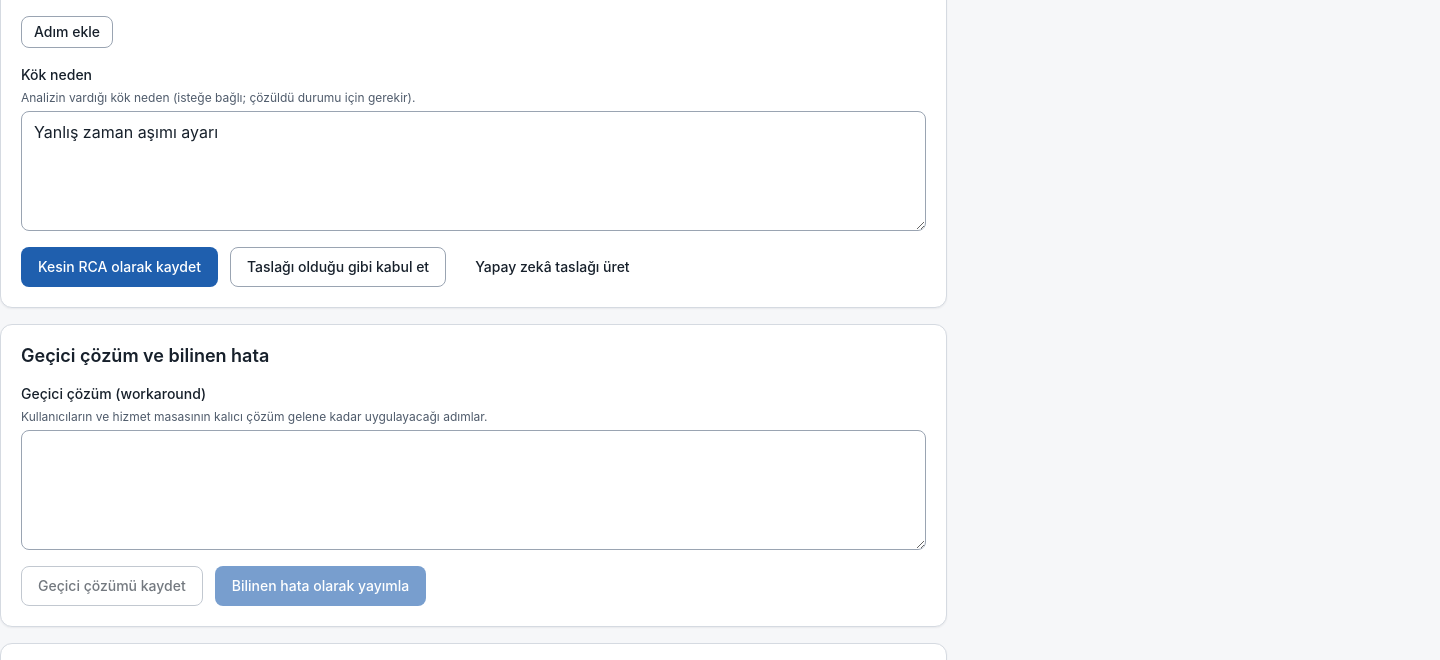
Test: ProblemDetailPage (/problemler/:id) › taslağı kabul et ve yapay zekâ taslağı (onaya düştü → eylem bağlantısı)
(page scrolled)
Click the button "Yapay zekâ taslağı üret": [552, 267] box [458,247,647,287]
(page scrolled)
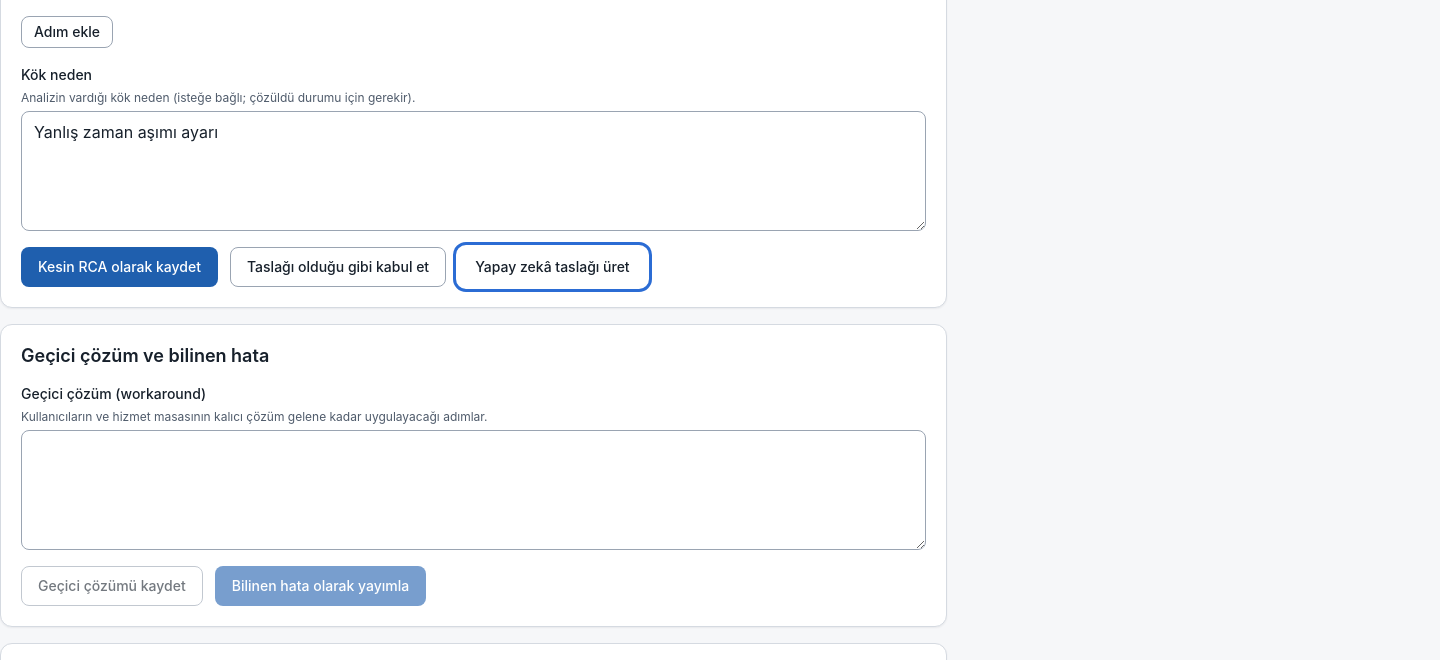
Click the button "Taslağı olduğu gibi kabul et": [338, 267] box [230,247,446,287]
(page scrolled)
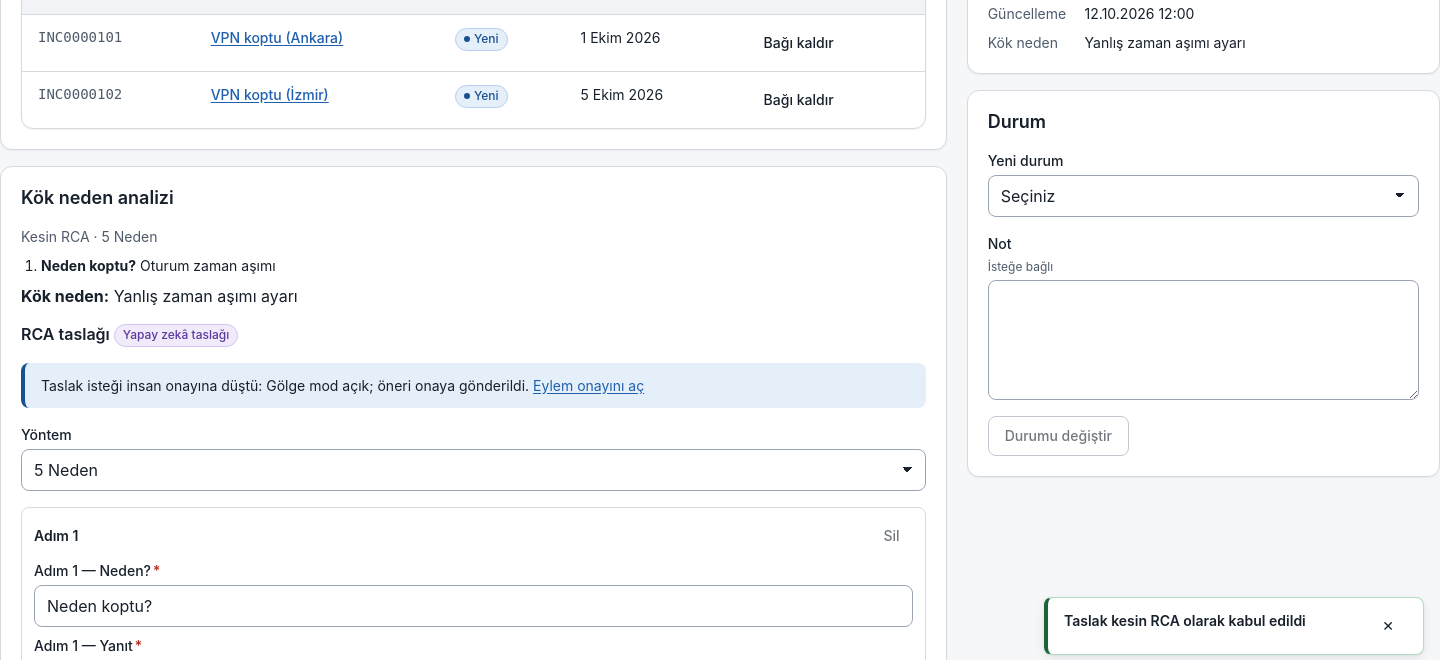
Check: the element with test id "final-rca" shows "Oturum zaman aşımı", box [140,257,276,274]
